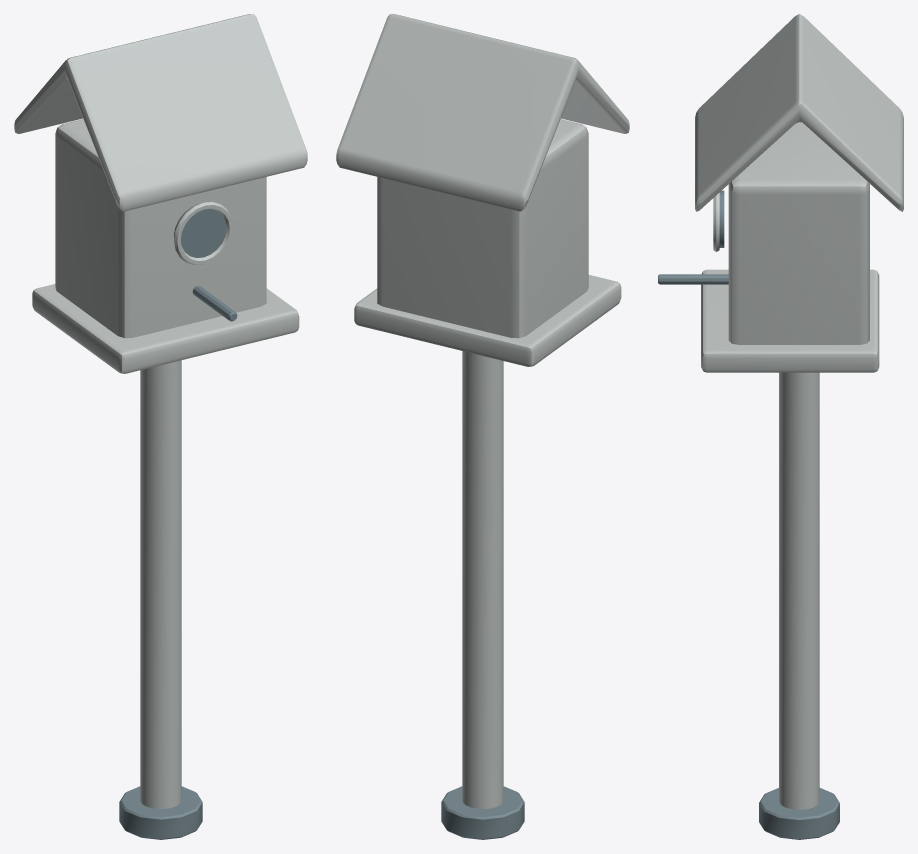
File: birdhouse.glb
3 views of the same model, side by side, from view 1: azimuth 30°, elevation 25°; view 2: azimuth 150°, elevation 25°; view 3: azimuth 270°, elevation 25° (orthographic). The views are drawn at different scales.
Visible parts, largest first — view 1: pitched_roof, house_body, wooden_post, base_ledge, wooden_post_foot, round_entrance, entry_rim, perch; view 2: pitched_roof, house_body, wooden_post, base_ledge, wooden_post_foot; view 3: house_body, pitched_roof, wooden_post, base_ledge, wooden_post_foot, perch.
Part boxes in pixels (x1=…): pitched_roof: x1=14, y1=14, x2=307, y2=211; house_body: x1=55, y1=119, x2=266, y2=338; wooden_post: x1=140, y1=360, x2=181, y2=808; base_ledge: x1=32, y1=284, x2=299, y2=373; wooden_post_foot: x1=119, y1=786, x2=202, y2=839; round_entrance: x1=174, y1=203, x2=226, y2=257; entry_rim: x1=174, y1=202, x2=232, y2=264; perch: x1=192, y1=285, x2=237, y2=321; pitched_roof: x1=336, y1=14, x2=629, y2=211; house_body: x1=377, y1=119, x2=588, y2=338; wooden_post: x1=462, y1=351, x2=503, y2=808; base_ledge: x1=354, y1=275, x2=621, y2=366; wooden_post_foot: x1=441, y1=786, x2=524, y2=839; house_body: x1=728, y1=122, x2=869, y2=344; pitched_roof: x1=695, y1=14, x2=903, y2=211; wooden_post: x1=779, y1=372, x2=819, y2=809; base_ledge: x1=701, y1=269, x2=879, y2=372; wooden_post_foot: x1=759, y1=788, x2=839, y2=839; perch: x1=658, y1=274, x2=728, y2=284.
Bounding box in the file's own units: 0.35 × 1.38 × 0.4.
